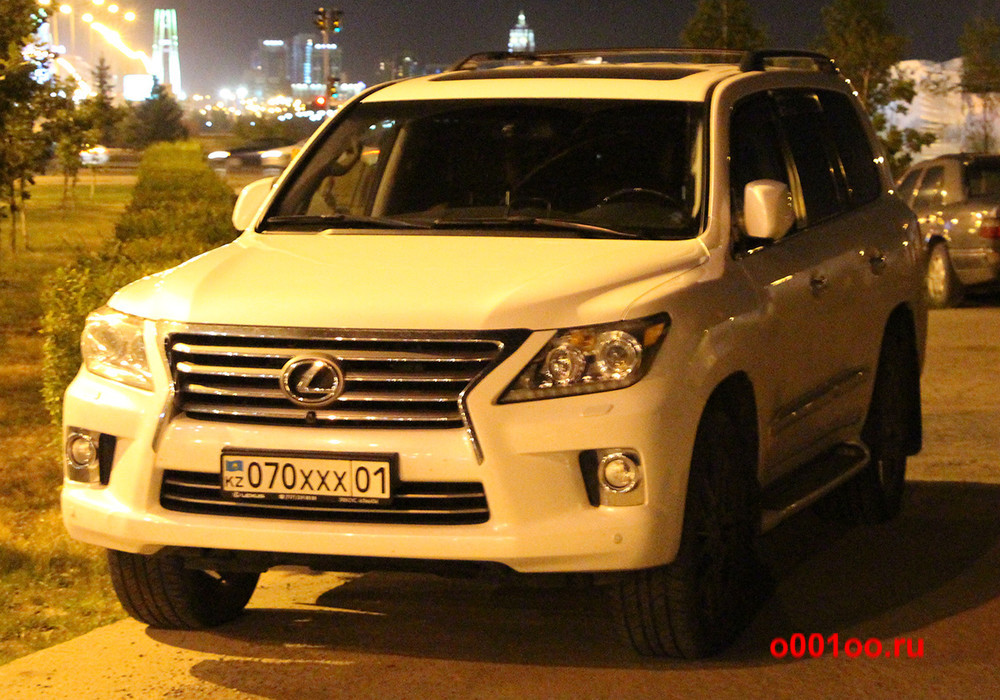license_plate: (222, 455, 392, 500)
